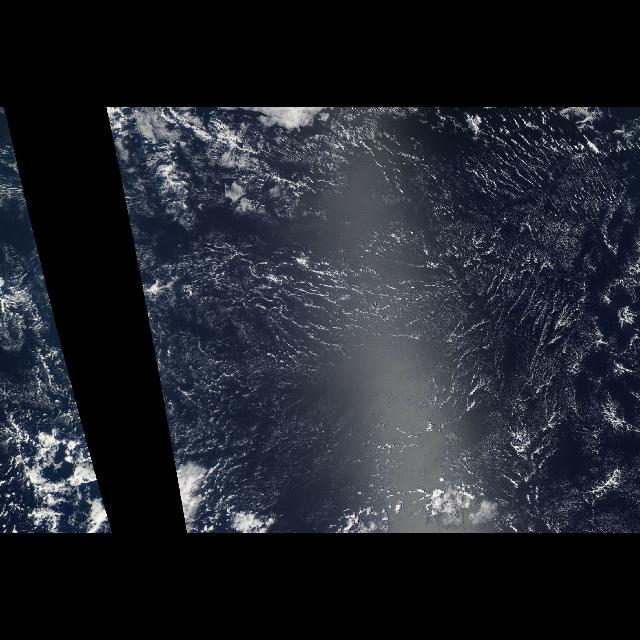Sugar: (110, 111, 638, 493), (33, 227, 101, 488)
